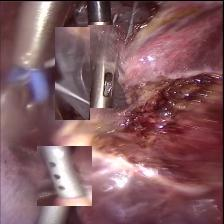Bipolar: (1, 63, 53, 129)
Grasper: (88, 24, 125, 107)
Irrigator: (37, 145, 92, 205)
Specimen Bag: (55, 26, 90, 119)
